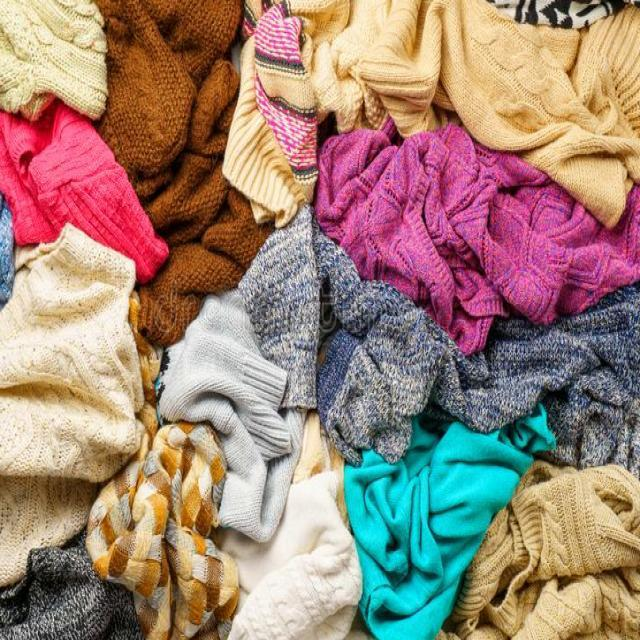clothes: (1, 11, 584, 572)
